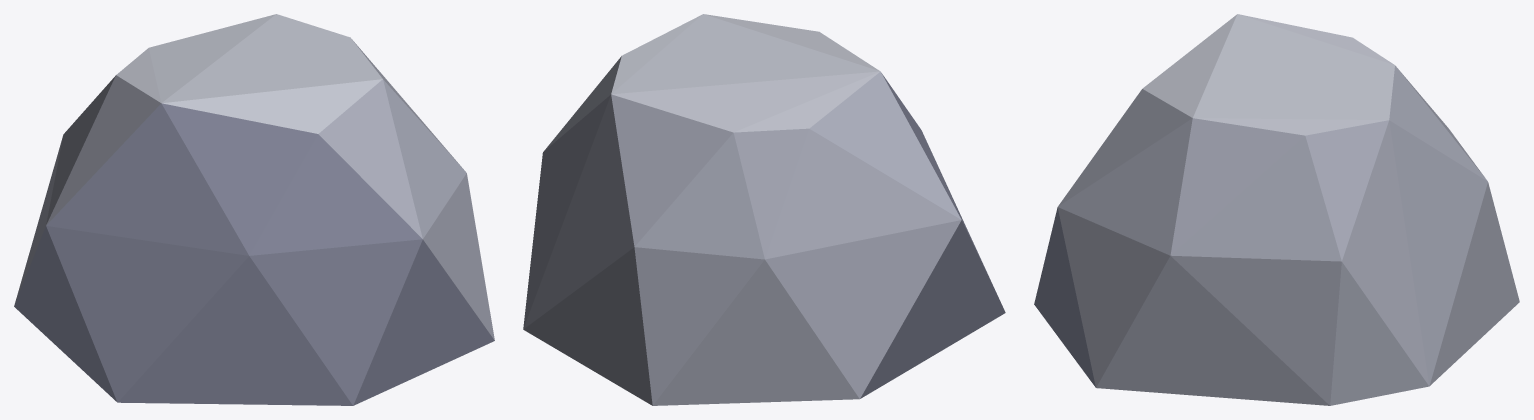
Rendered from stone_smallA.glb.
3 views of the same model, side by side, from view 1: azimuth 30°, elevation 25°; view 2: azimuth 150°, elevation 25°; view 3: azimuth 270°, elevation 25° (orthographic).
Parts seen in each view (by area): view 1: stone_smallA; view 2: stone_smallA; view 3: stone_smallA.
Boxes of the visible parts, <box> form: stone_smallA: <box>14,14,494,405</box>; stone_smallA: <box>523,14,1005,405</box>; stone_smallA: <box>1034,14,1519,405</box>.
Bounding box in the file's own units: 0.3146 × 0.1887 × 0.3361.
Materials: 1 (1 with a texture image).
